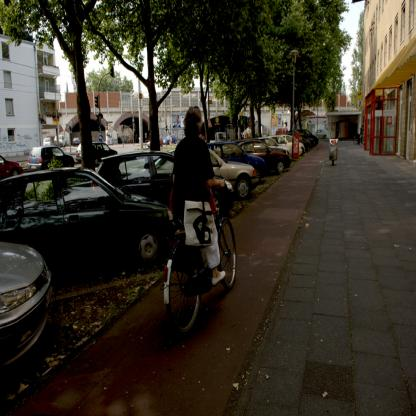Car: (1, 130, 328, 373)
